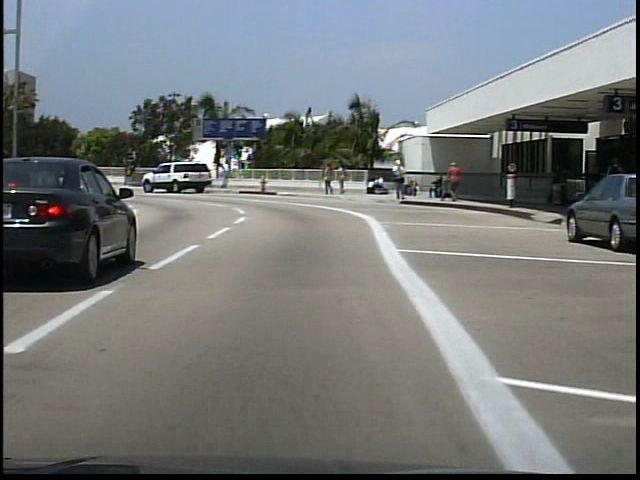person: (598, 153, 626, 222), (393, 157, 408, 205), (449, 160, 466, 201), (338, 162, 350, 199), (324, 161, 336, 196), (366, 176, 386, 195)
